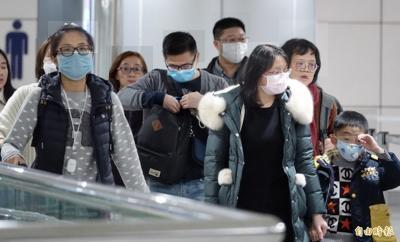mask: (56, 41, 94, 81), (220, 31, 249, 64), (334, 131, 365, 161), (262, 66, 290, 95), (166, 59, 196, 83)
no_apron: (152, 90, 188, 117), (176, 91, 215, 111), (359, 133, 384, 160), (3, 152, 28, 170), (312, 215, 330, 237)
no_gloves: (237, 43, 293, 108), (279, 21, 328, 78), (48, 22, 98, 54), (110, 46, 154, 78), (326, 110, 378, 137), (163, 30, 205, 62), (0, 45, 23, 97), (212, 12, 251, 42), (35, 38, 50, 78)
no_hairnet: (292, 58, 318, 86), (119, 61, 146, 87)
